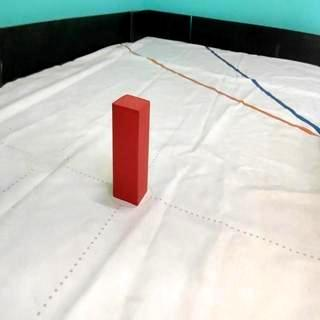redbox: (112, 93, 150, 207)
